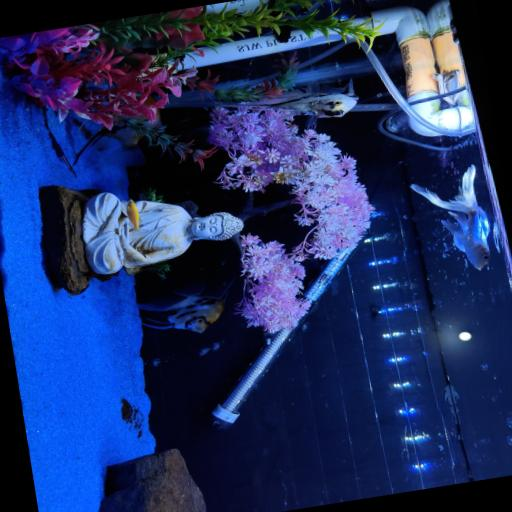Fish: (410, 165, 488, 269), (239, 79, 357, 117), (135, 290, 225, 331), (73, 119, 144, 165), (98, 125, 144, 165), (125, 199, 138, 229)
